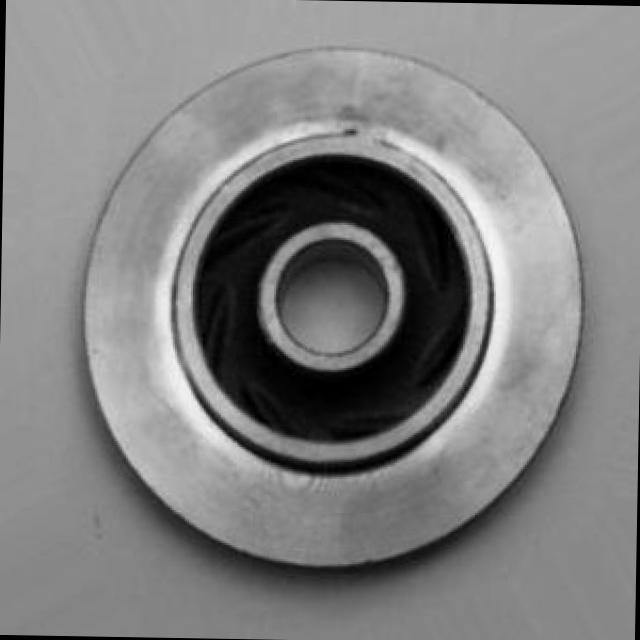Defect: (342, 115, 356, 142)
